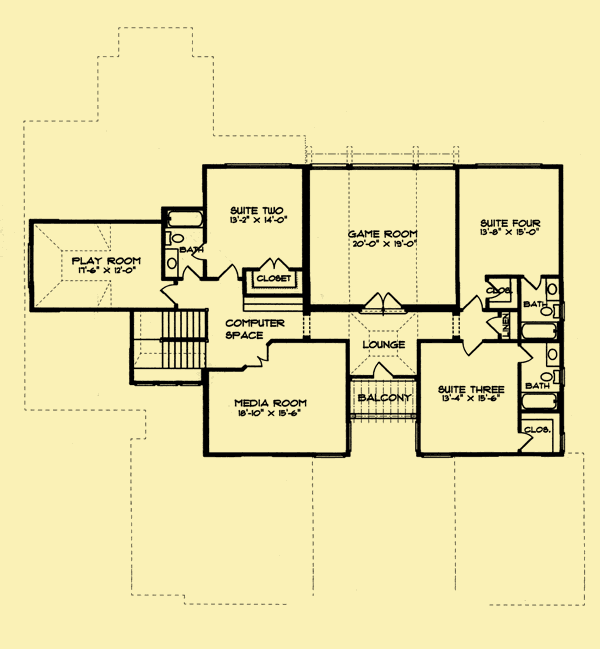door: (359, 290, 404, 310), (242, 341, 271, 370), (157, 281, 177, 310), (459, 293, 486, 311), (180, 262, 204, 282), (460, 337, 482, 357), (259, 255, 288, 270), (212, 264, 239, 280), (521, 271, 543, 290), (372, 361, 395, 379), (513, 345, 535, 363), (486, 314, 501, 335)
large_sink: (539, 369, 564, 389), (536, 302, 561, 321), (163, 231, 186, 250)
small_sink: (164, 248, 180, 282), (543, 276, 560, 302), (546, 341, 560, 370)
stairs: (125, 311, 211, 371)
tub: (520, 391, 558, 410), (520, 319, 558, 337), (164, 210, 202, 228)
